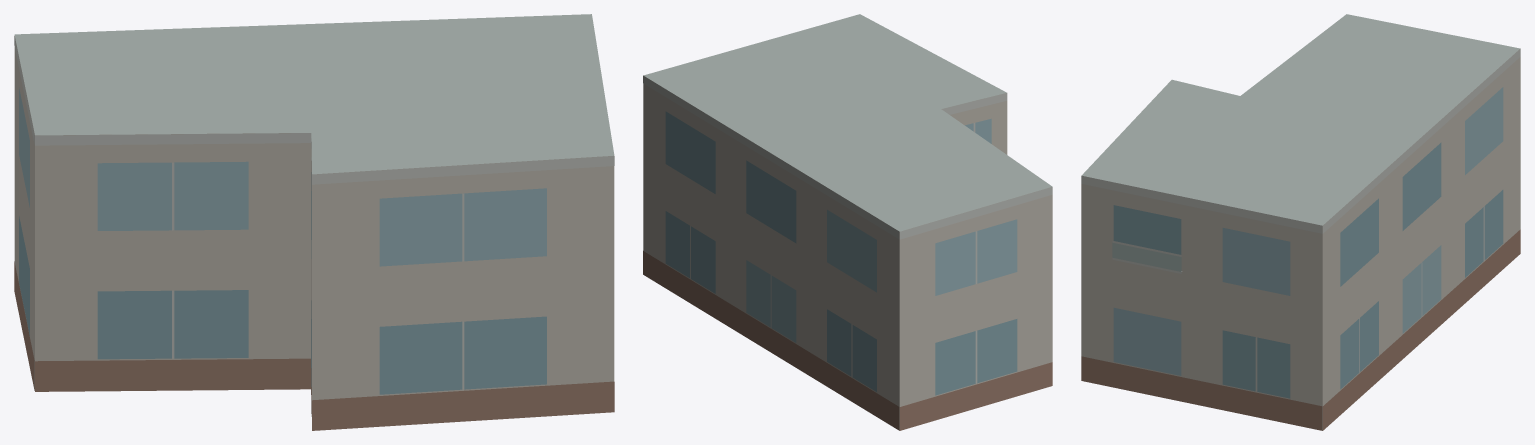
Rendered from survey-upis-32999943.glb.
The picture shows the model from 3 angles, left to right: view 1: azimuth 30°, elevation 25°; view 2: azimuth 150°, elevation 25°; view 3: azimuth 270°, elevation 25°; orthographic projection. The views are drawn at different scales.
Visible parts, largest first — view 1: survey-upis-32999943.tmp; view 2: survey-upis-32999943.tmp; view 3: survey-upis-32999943.tmp.
Part boxes in pixels (<box>): survey-upis-32999943.tmp: <box>14,14,614,430</box>; survey-upis-32999943.tmp: <box>643,14,1052,430</box>; survey-upis-32999943.tmp: <box>1081,14,1520,430</box>.
Bounding box in the file's own units: 13.5 × 6.1 × 11.84.
